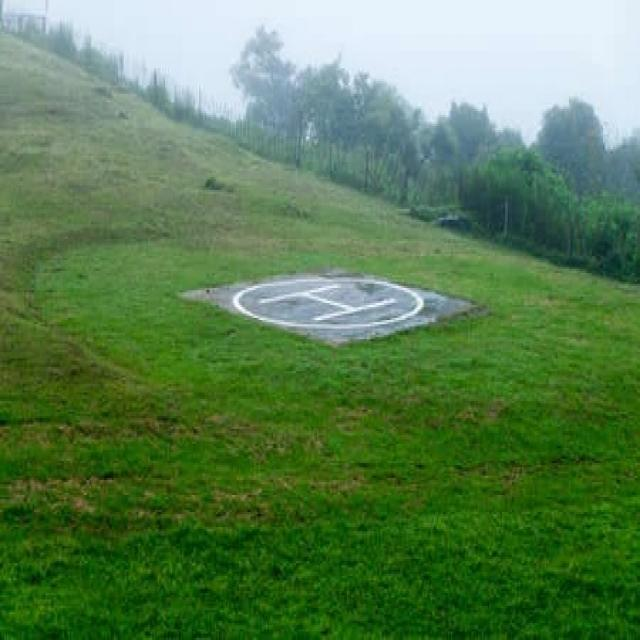helipad: (229, 268, 424, 330)
